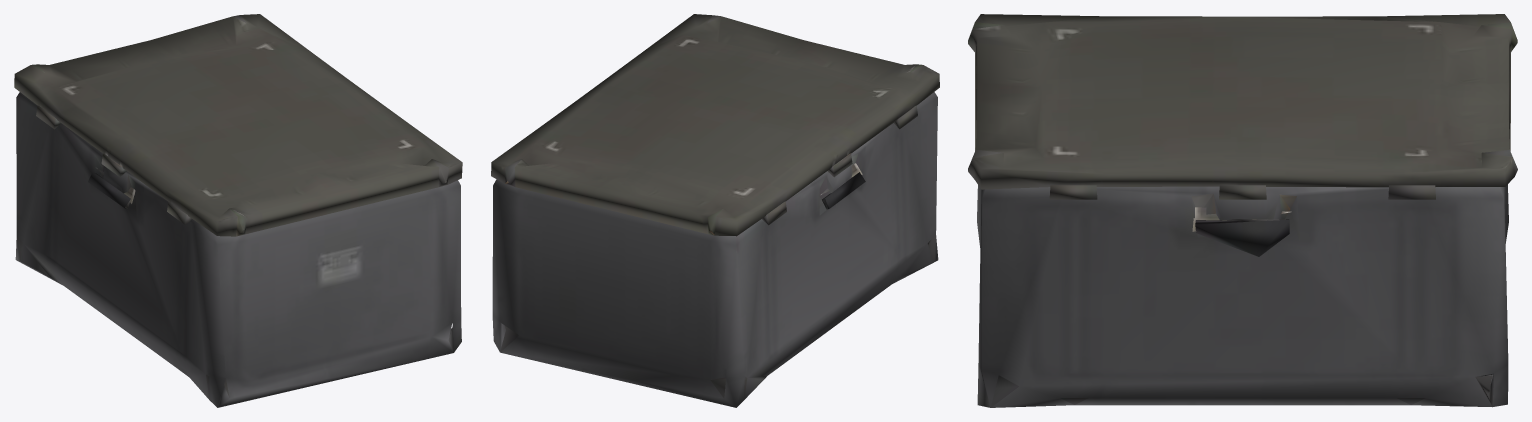
File: storage_box_a01.glb
3 views of the same model, side by side, from view 1: azimuth 30°, elevation 25°; view 2: azimuth 150°, elevation 25°; view 3: azimuth 270°, elevation 25° (orthographic). The views are drawn at different scales.
Visible parts, largest first — view 1: body_01_mesh_00; view 2: body_01_mesh_00; view 3: body_01_mesh_00.
Part boxes in pixels (left/top/right/bottom): body_01_mesh_00: left=14, top=14, right=462, bottom=407; body_01_mesh_00: left=491, top=14, right=939, bottom=407; body_01_mesh_00: left=968, top=14, right=1517, bottom=407.
Size of the model in its own units: 0.7805 by 0.5315 by 1.05.
5 materials, 5 textured.
